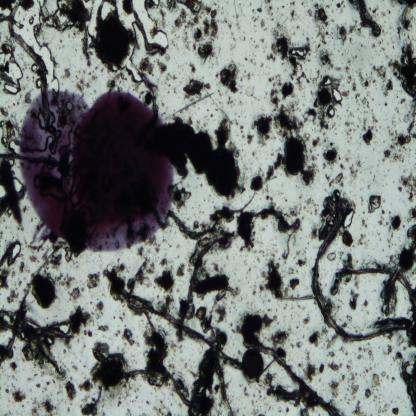Air bubble: (9, 243, 23, 262), (342, 207, 354, 226), (331, 88, 343, 103), (12, 177, 23, 193), (290, 48, 306, 56), (29, 62, 38, 74), (323, 75, 332, 86), (327, 106, 335, 117), (36, 80, 42, 88)
Background material: (164, 112, 245, 204), (252, 105, 319, 190), (236, 201, 302, 257), (168, 0, 220, 64), (84, 339, 139, 398), (94, 1, 137, 72), (52, 0, 93, 65), (186, 352, 226, 415), (258, 254, 306, 305), (137, 314, 171, 385), (270, 19, 308, 82), (192, 225, 236, 278), (262, 370, 313, 414), (384, 99, 416, 161), (193, 296, 229, 350), (0, 160, 28, 228), (306, 74, 339, 131), (386, 39, 416, 99), (110, 255, 158, 292), (64, 302, 108, 340), (29, 239, 71, 278), (237, 308, 277, 348), (394, 354, 416, 416), (64, 380, 102, 414), (360, 63, 393, 97), (356, 96, 379, 144), (0, 43, 22, 93), (156, 258, 186, 293), (308, 4, 333, 46), (215, 60, 240, 97), (30, 273, 57, 307), (362, 370, 388, 404), (182, 74, 212, 102), (0, 114, 20, 156), (269, 71, 296, 102), (64, 70, 97, 94), (391, 1, 416, 32), (0, 257, 18, 300), (306, 326, 335, 352), (58, 274, 82, 304), (299, 356, 325, 383), (270, 329, 291, 361), (406, 204, 416, 270), (397, 171, 416, 204), (131, 237, 161, 257), (170, 184, 191, 212), (321, 142, 342, 170), (344, 358, 359, 397), (253, 1, 273, 30), (138, 56, 165, 77), (4, 380, 27, 404), (29, 396, 59, 414), (334, 19, 353, 46), (145, 397, 173, 415), (364, 189, 383, 215), (107, 70, 126, 92), (354, 345, 376, 363), (344, 64, 358, 92), (325, 172, 345, 189), (88, 271, 104, 292), (387, 212, 403, 232), (222, 12, 238, 32), (348, 160, 364, 180), (121, 325, 136, 346), (141, 88, 157, 107), (325, 377, 340, 396), (340, 249, 354, 269), (340, 228, 354, 248), (347, 287, 358, 312), (320, 48, 333, 68), (349, 398, 365, 414), (354, 232, 369, 247), (326, 360, 344, 372), (310, 132, 320, 149), (264, 51, 277, 64), (221, 96, 235, 108), (245, 84, 257, 98), (245, 130, 254, 146), (168, 73, 178, 87), (335, 1, 349, 11), (297, 253, 306, 268), (17, 260, 27, 272), (301, 316, 311, 328), (389, 407, 401, 415), (188, 62, 196, 73), (290, 10, 297, 18), (362, 221, 368, 229), (289, 1, 297, 7)
Cellulose filter fibre: (312, 193, 408, 343), (115, 280, 242, 370), (245, 340, 340, 415), (8, 3, 52, 126), (0, 298, 65, 358), (329, 265, 416, 305), (124, 0, 167, 46), (168, 209, 218, 238), (350, 0, 380, 43)
Diatom: (243, 347, 266, 380)
Fragment: (192, 272, 231, 296)
Pen: (21, 87, 171, 254)
